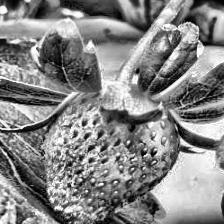Powdery Mildew Fruit: (42, 104, 132, 224)
